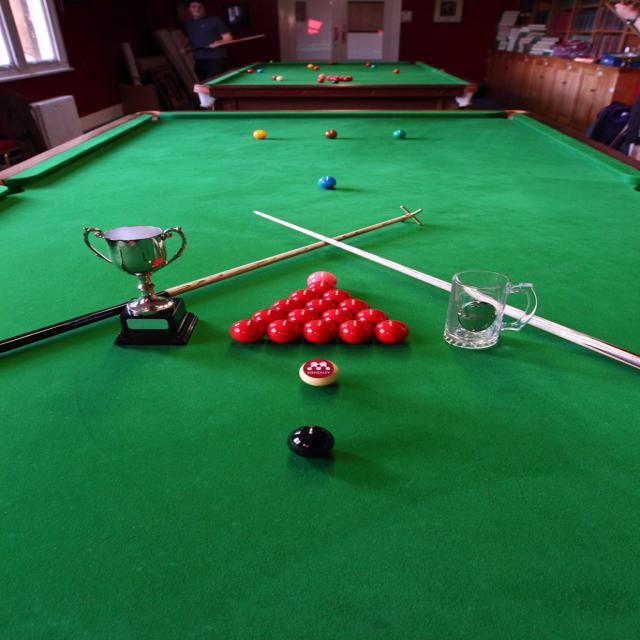Ball: (222, 269, 410, 345), (243, 62, 403, 85), (282, 426, 336, 462), (298, 361, 342, 388), (315, 174, 340, 190), (394, 131, 410, 143), (253, 128, 266, 140), (324, 129, 338, 139)
Billiard table: (0, 110, 639, 640), (192, 57, 485, 107)
